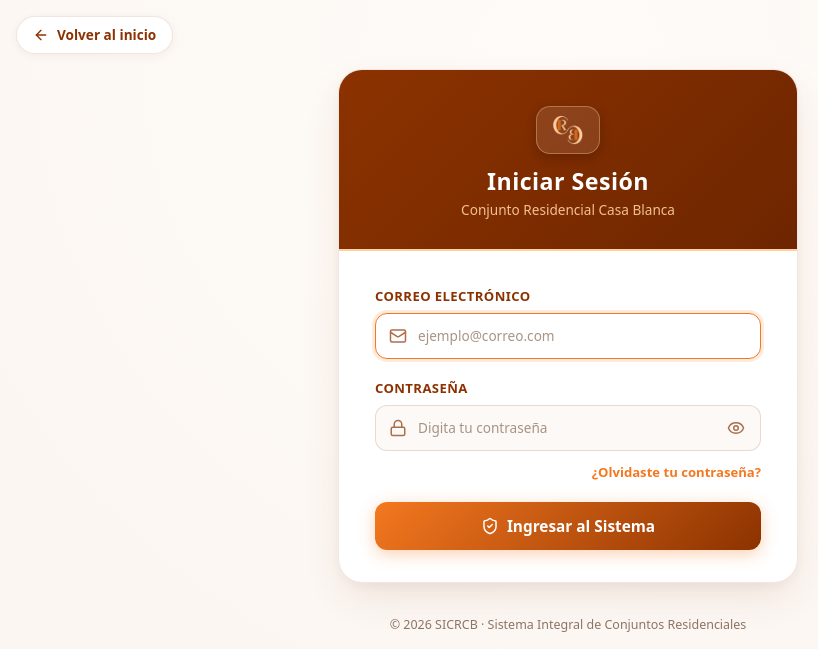
it: Pruebas de Caja Negra - Login y Autenticación (UI) › CP-UI-05: Debe alternar la visibilidad de la contraseña al hacer clic en el ícono del ojo
Type "Admin123*" into the password field with placeholder "Digita tu contraseña" at {"x": 568, "y": 428}, box [375,405,761,451]
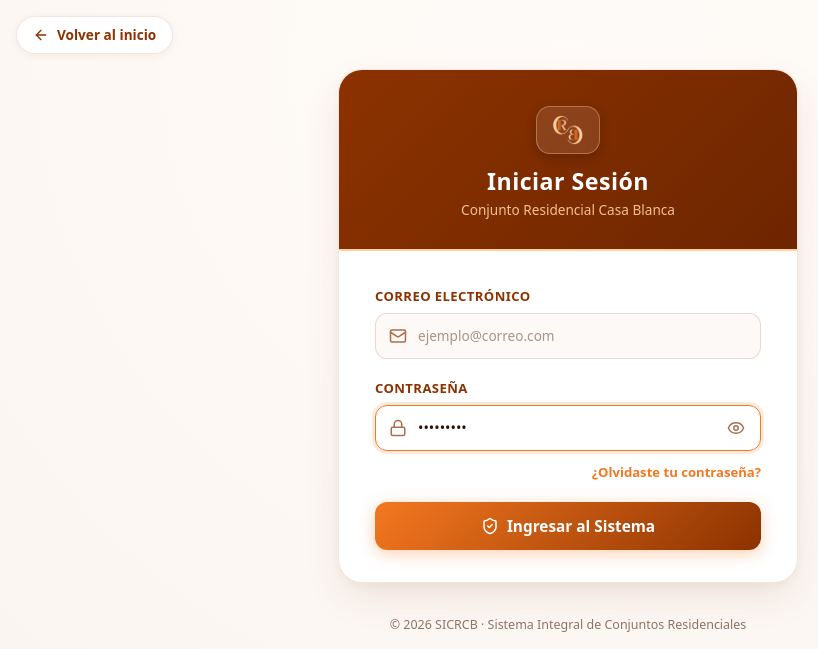
Click the button with class "auth-password-toggle" at {"x": 736, "y": 428}, box [723,415,749,441]
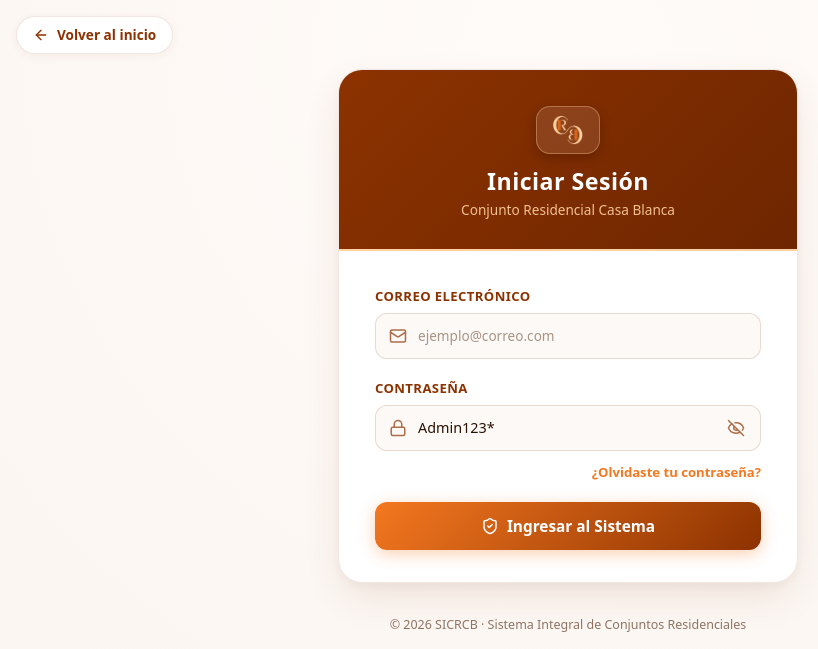
Result: the field with placeholder "Digita tu contraseña" shows its text at [375,405,761,451]
Click the button with class "auth-password-toggle" at {"x": 736, "y": 428}, box [723,415,749,441]
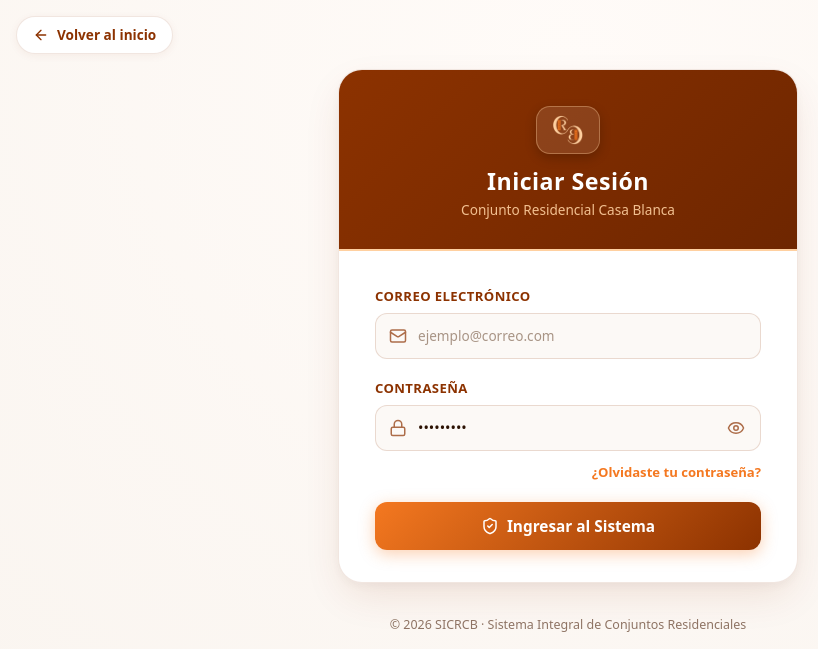
Result: the password field with placeholder "Digita tu contraseña" hides its text at [375,405,761,451]
